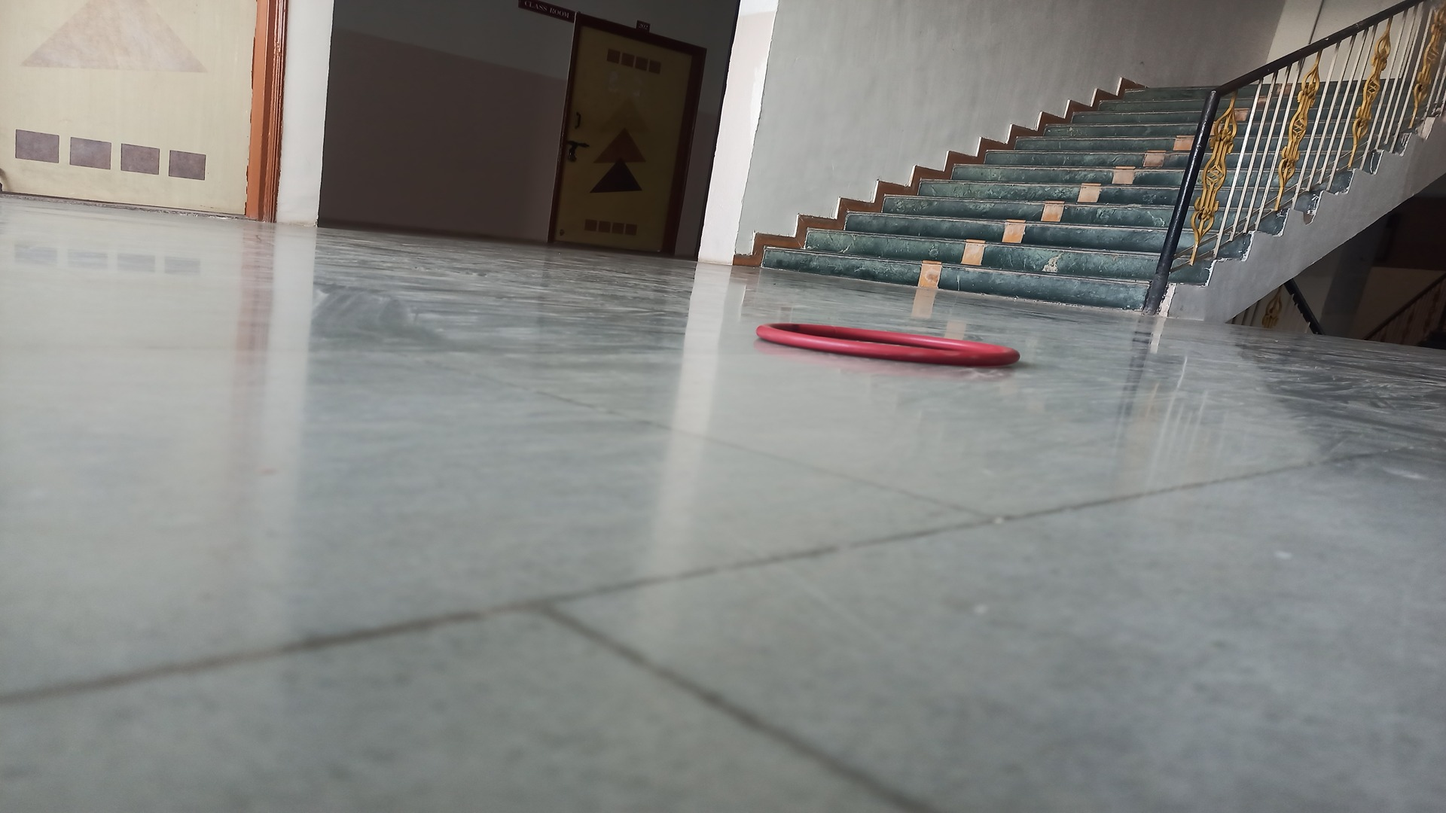Red ring: (755, 320, 1021, 373)
